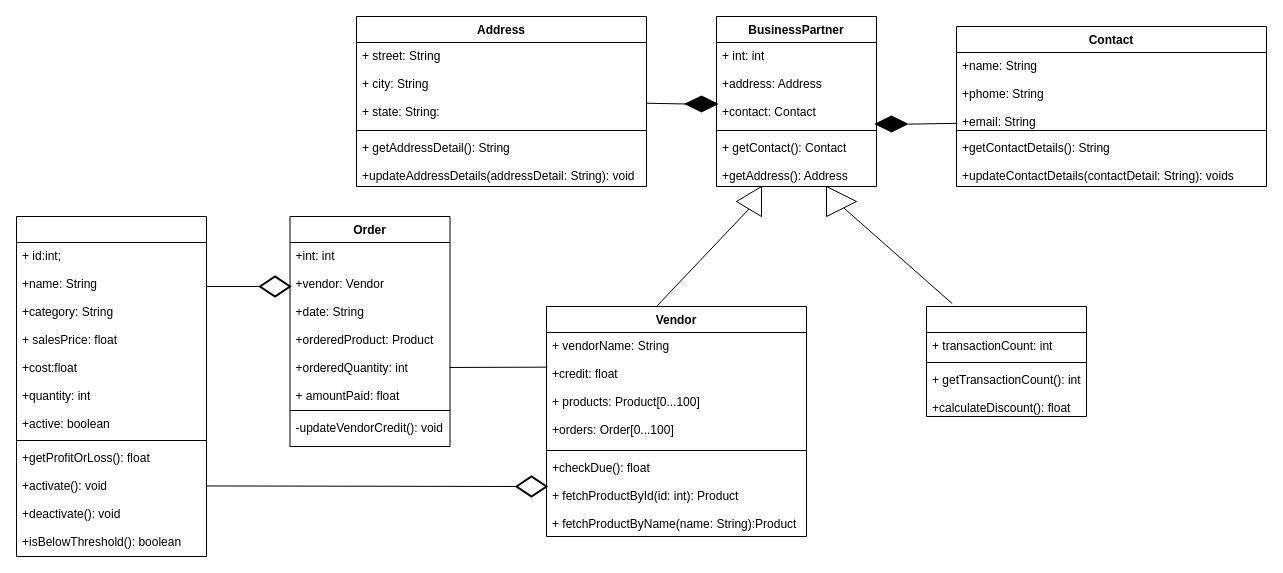
Some shapes in this 1283 by 573 pixel diagram are drawn without their labels. Here are the shapes that lost their labels. From the top down, the box of each, then its label:
(926, 306, 1086, 416): Customer
(16, 216, 206, 556): Product
